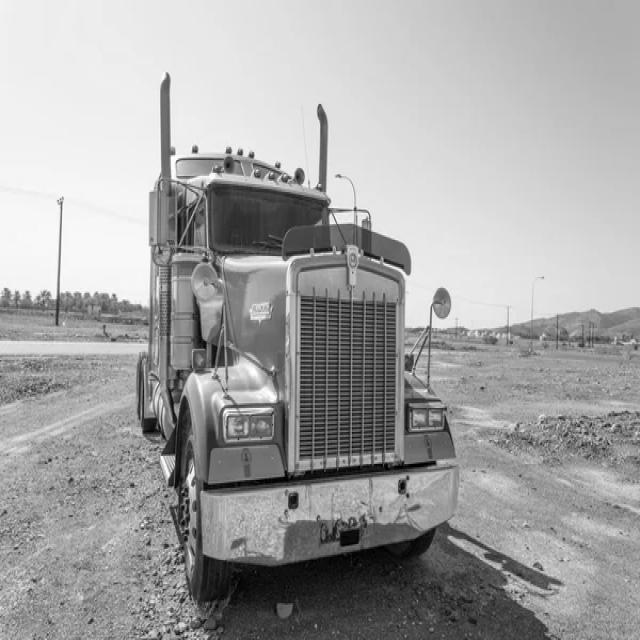Truck: (137, 74, 460, 603)
